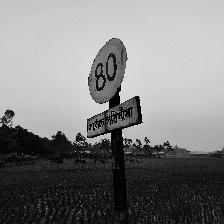Speed-limit: (86, 37, 142, 139)
